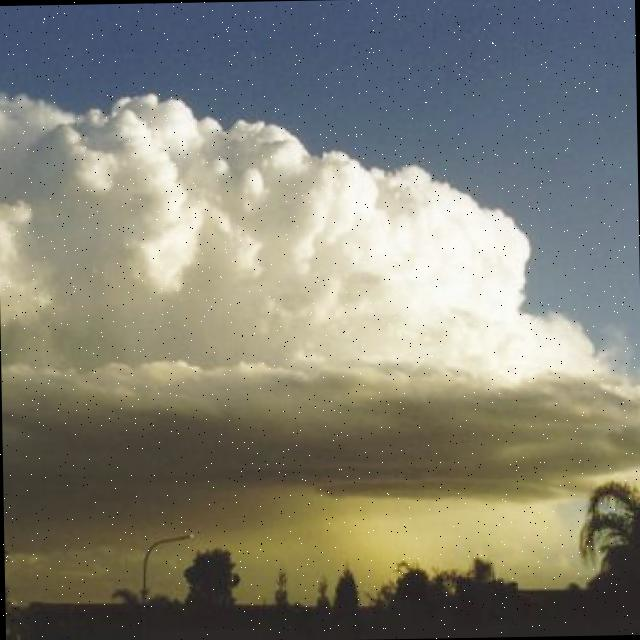Cb: (1, 64, 567, 489)
